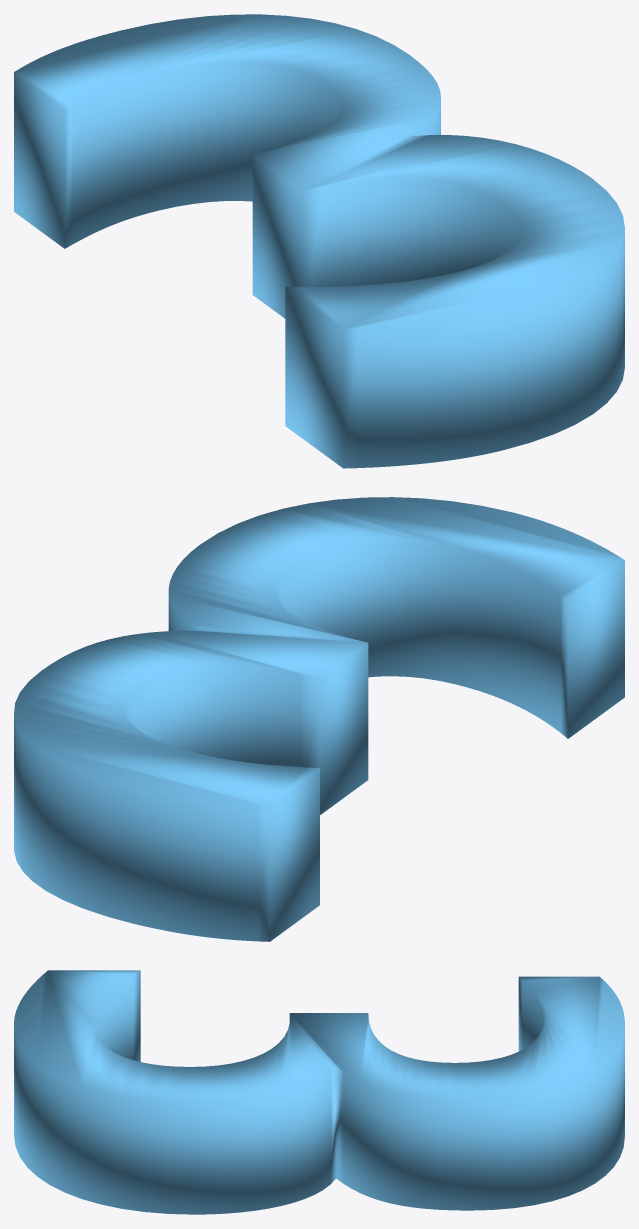
The picture shows the model from 3 angles, top to bottom: view 1: azimuth 30°, elevation 25°; view 2: azimuth 150°, elevation 25°; view 3: azimuth 270°, elevation 25°; orthographic projection. The views are drawn at different scales.
Visible parts, largest first — view 1: テキスト; view 2: テキスト; view 3: テキスト.
Boxes of the visible parts, box(x1,y1,x2,y2) form: テキスト: box(14, 14, 624, 468); テキスト: box(14, 497, 624, 941); テキスト: box(14, 970, 624, 1214).
Bounding box in the file's own units: 36 × 14.1 × 70.
Materials: 1 (1 with a texture image).
